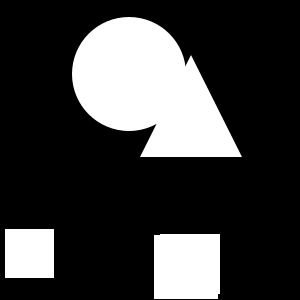circle: (154, 235, 218, 299), (160, 234, 220, 294), (5, 229, 54, 278)
rectangle: (72, 17, 186, 131)
triangle: (140, 55, 242, 157)
